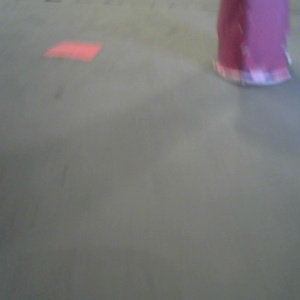right: (211, 1, 291, 85)
